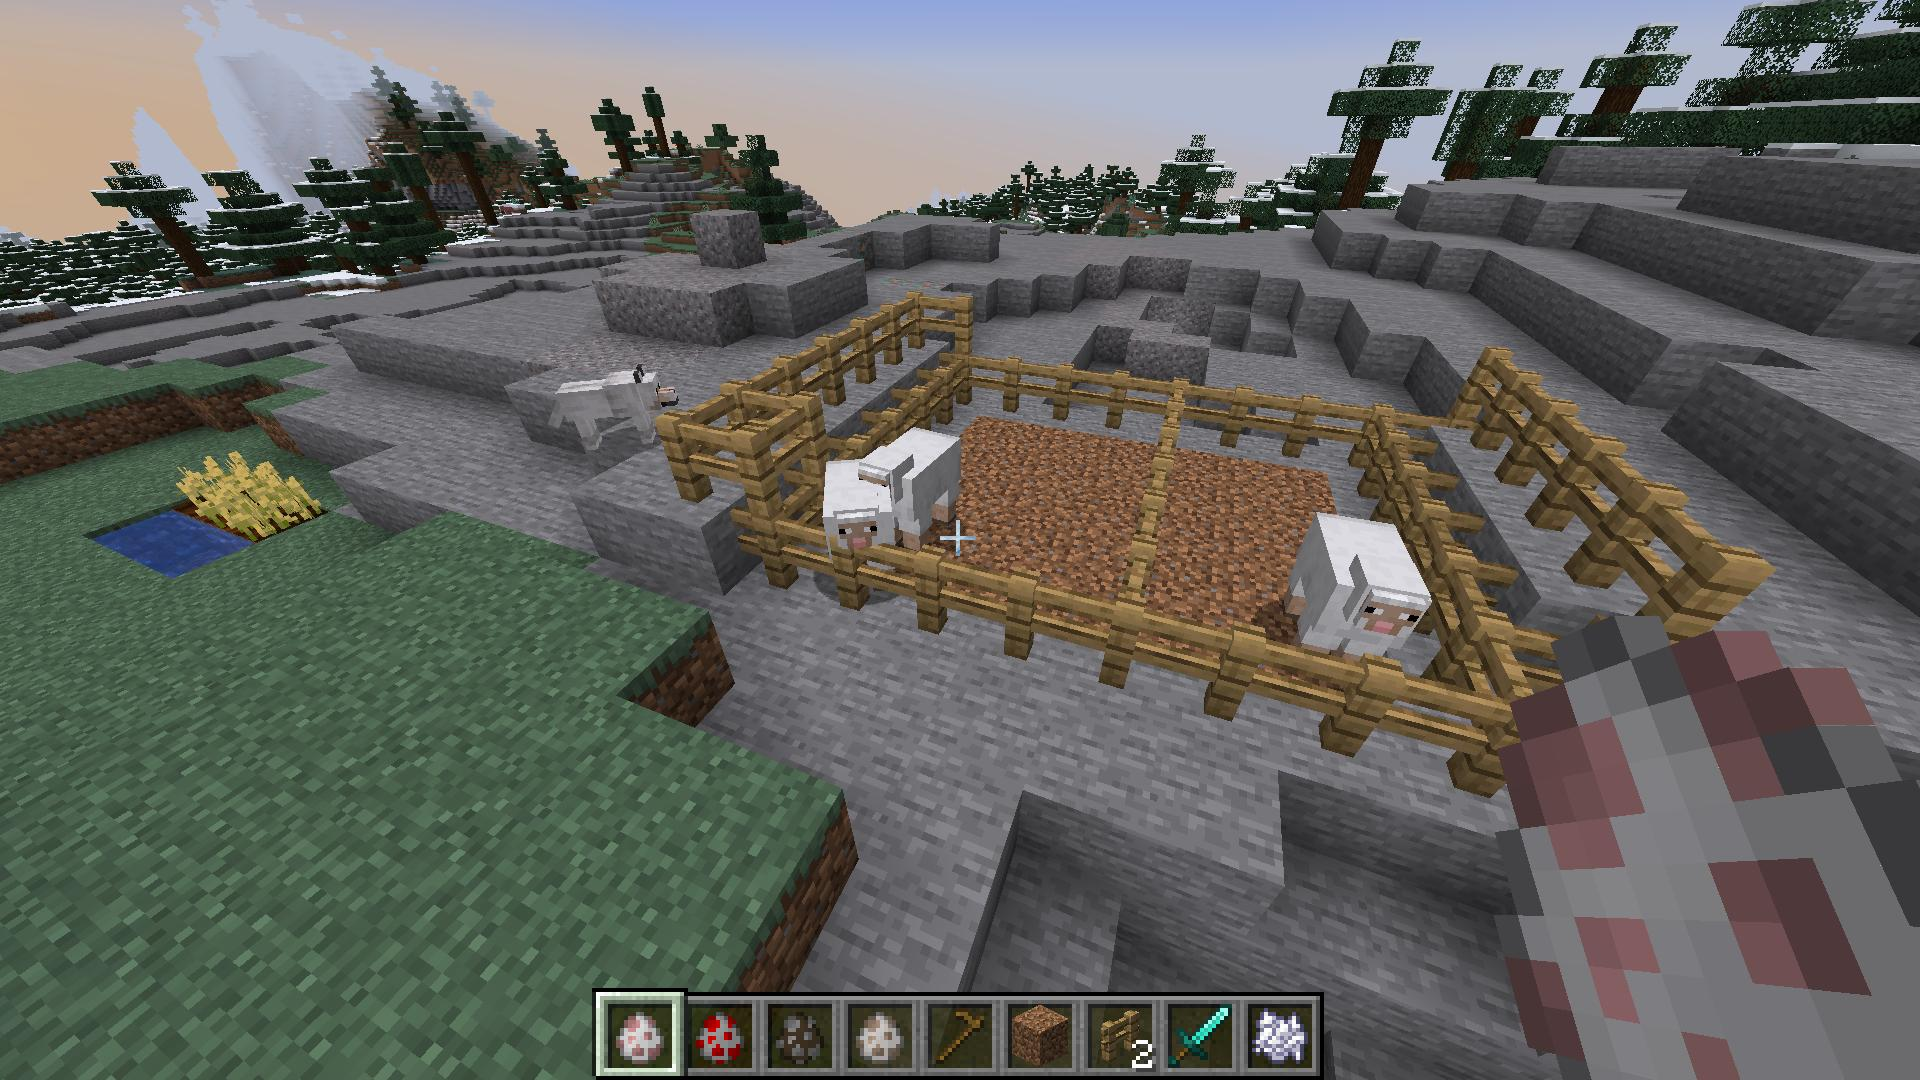sheep: (1279, 512, 1439, 665), (860, 413, 967, 550), (822, 452, 899, 572)
wolf: (539, 361, 684, 458)
